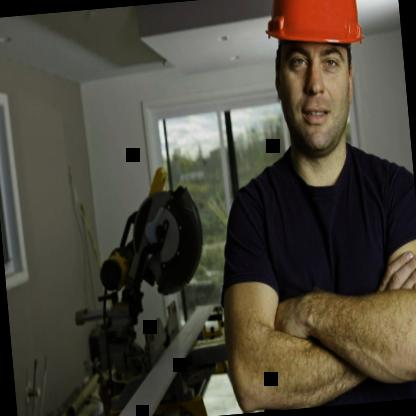helmet: (250, 0, 383, 162)
